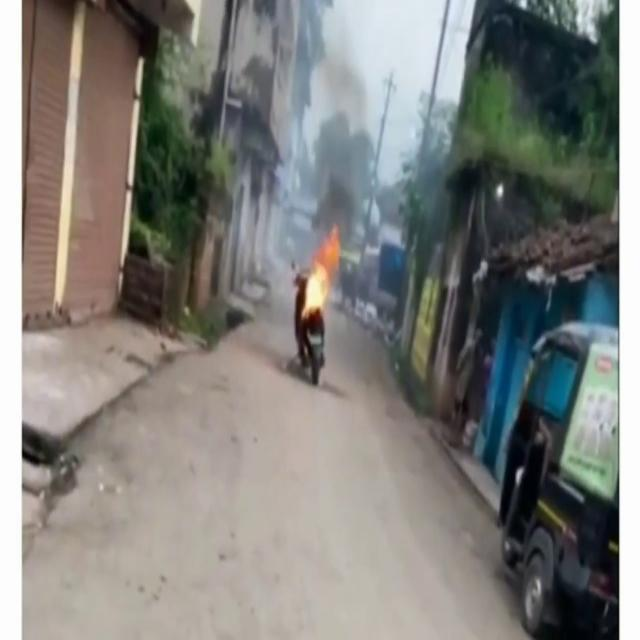Fire: (298, 223, 344, 325)
Smoke: (298, 3, 376, 228)
